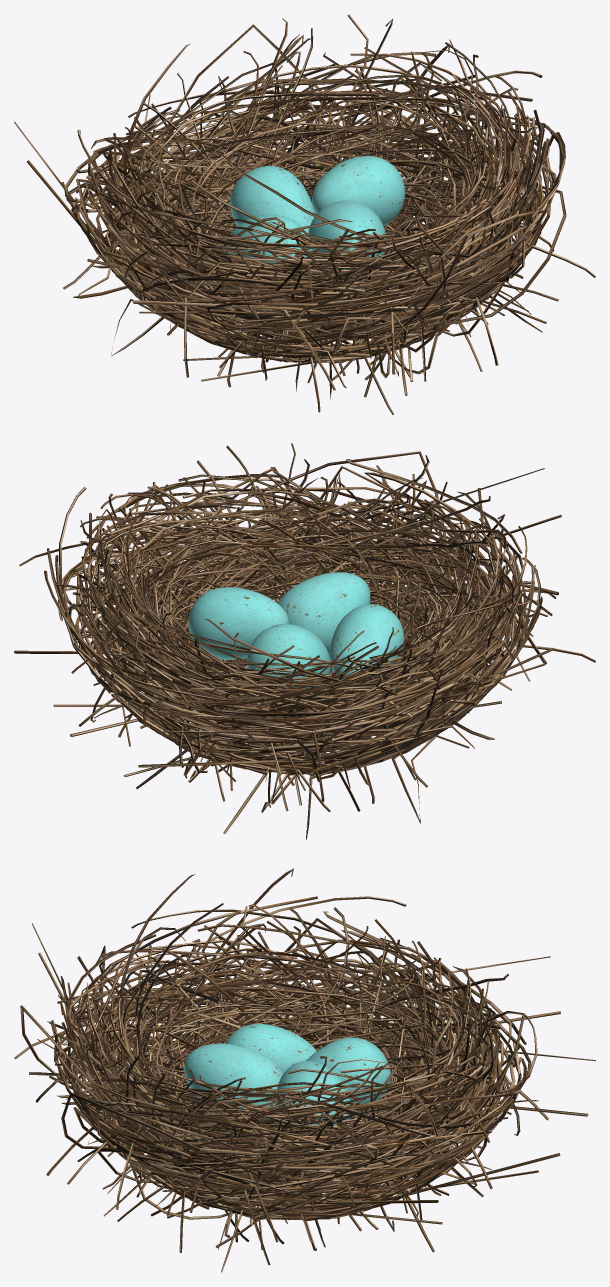
Rendered from nest.glb.
3 renders of one model, top to bottom at view 1: azimuth 30°, elevation 25°; view 2: azimuth 150°, elevation 25°; view 3: azimuth 270°, elevation 25°, orthographic. The views are drawn at different scales.
Parts seen in each view (by area): view 1: Nest, Egg.003, Egg.001, Egg.002, Egg; view 2: Nest, Egg.003, Egg.002, Egg, Egg.001; view 3: Nest, Egg.002, Egg.001, Egg, Egg.003.
Part boxes in pixels (x1,y1,x2,y2): Nest: (14,14,595,414); Egg.003: (311,155,405,225); Egg.001: (230,166,315,233); Egg.002: (308,200,386,269); Egg: (227,214,312,277); Nest: (14,443,595,839); Egg.003: (188,587,289,659); Egg.002: (278,572,370,654); Egg: (330,604,404,680); Egg.001: (247,624,330,699); Nest: (14,868,595,1272); Egg.002: (184,1043,283,1123); Egg.001: (306,1037,390,1113); Egg: (225,1023,316,1073); Egg.003: (276,1061,350,1136).
Bounding box in the file's own units: 0.1524 × 0.0893 × 0.1598.
2 materials, 2 textured.
